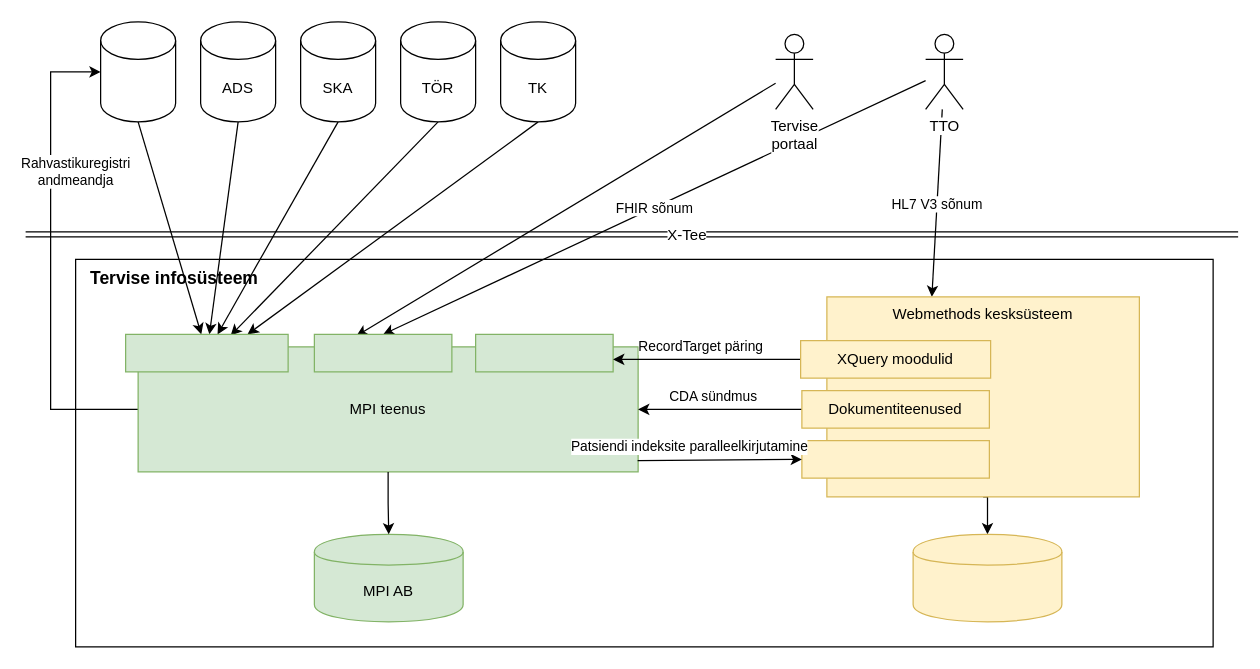
Image size: 1260x669. Some labels were removed from this diagram. The shapes that lost their labels are listed below. From the top down, each one's centre as x and y in pixels, then its label:
At point 137,71: "RR".
At point 206,352: "Haldamise API".
At point 382,352: "FHIR API".
At point 543,352: "HL7 v3 API".
At point 895,458: "Patsiendiindeks".
At point 987,577: "Oracle TIS AB".
